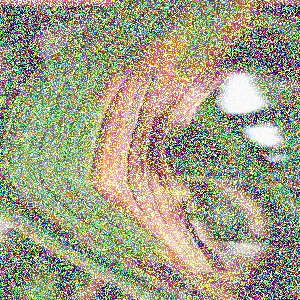Leaf_Blast: (34, 3, 191, 261)
